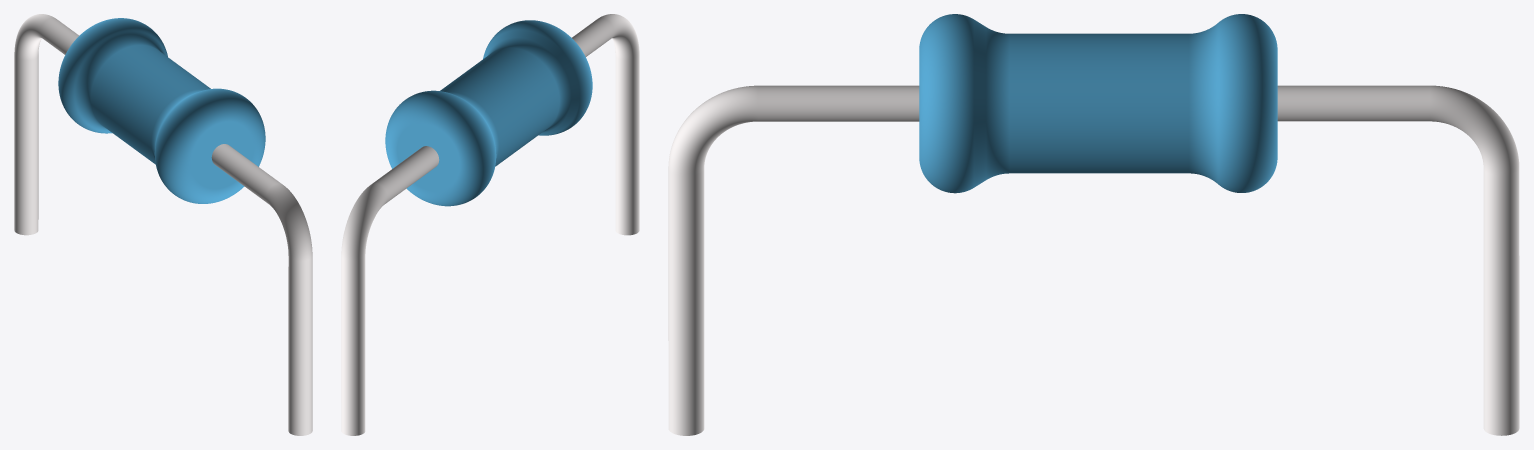
File: Resistor.FBX
3 views of the same model, side by side, from view 1: azimuth 30°, elevation 25°; view 2: azimuth 150°, elevation 25°; view 3: azimuth 270°, elevation 25° (orthographic). The views are drawn at different scales.
Parts seen in each view (by area): view 1: Resistor; view 2: Resistor; view 3: Resistor.
Boxes of the visible parts, left/top/right/bottom form: Resistor: left=14, top=14, right=312, bottom=435; Resistor: left=341, top=14, right=639, bottom=435; Resistor: left=668, top=14, right=1519, bottom=435.
Size of the model in its own units: 0.1 by 0.2501 by 0.475.
